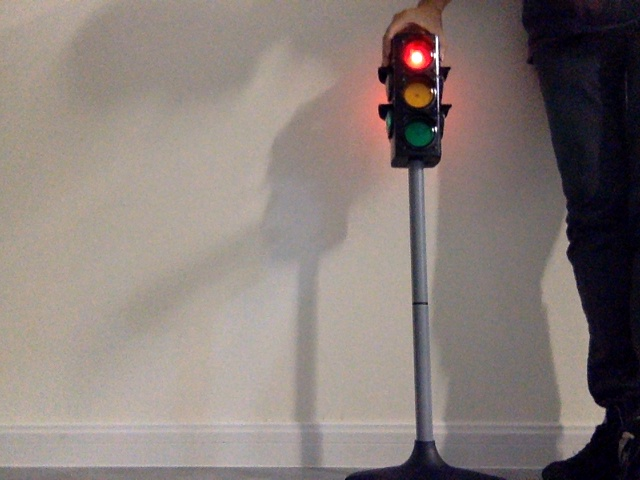red: (396, 39, 434, 148)
